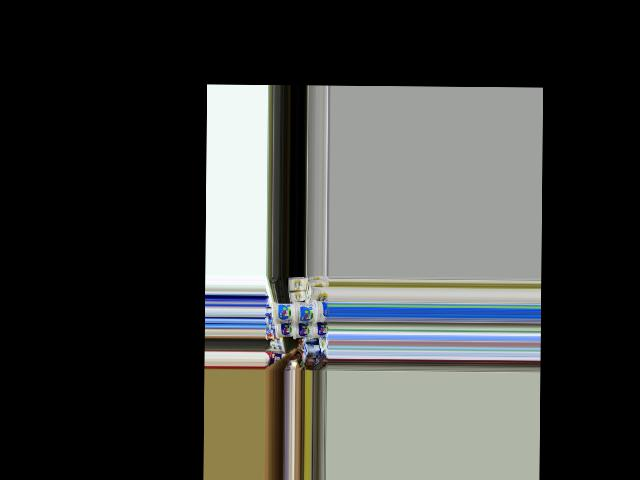cotage: (293, 320, 313, 337)
